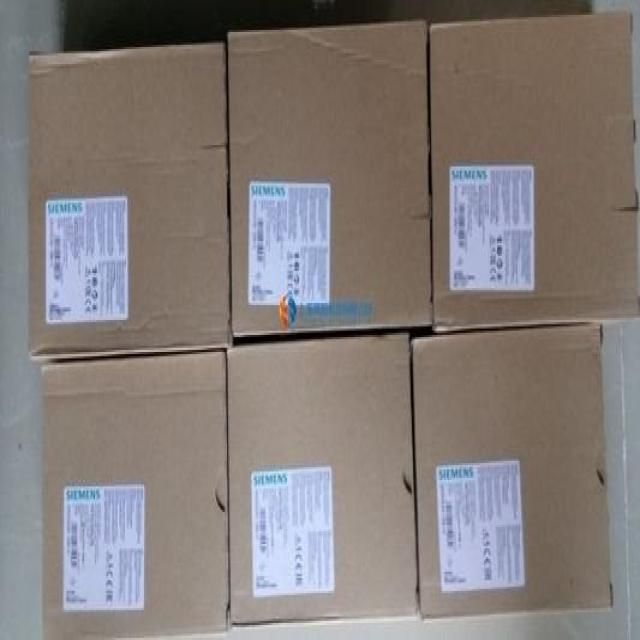Carton: (226, 17, 431, 335), (429, 17, 636, 329), (25, 41, 228, 350), (412, 322, 611, 610), (227, 333, 417, 627), (42, 350, 223, 638)
